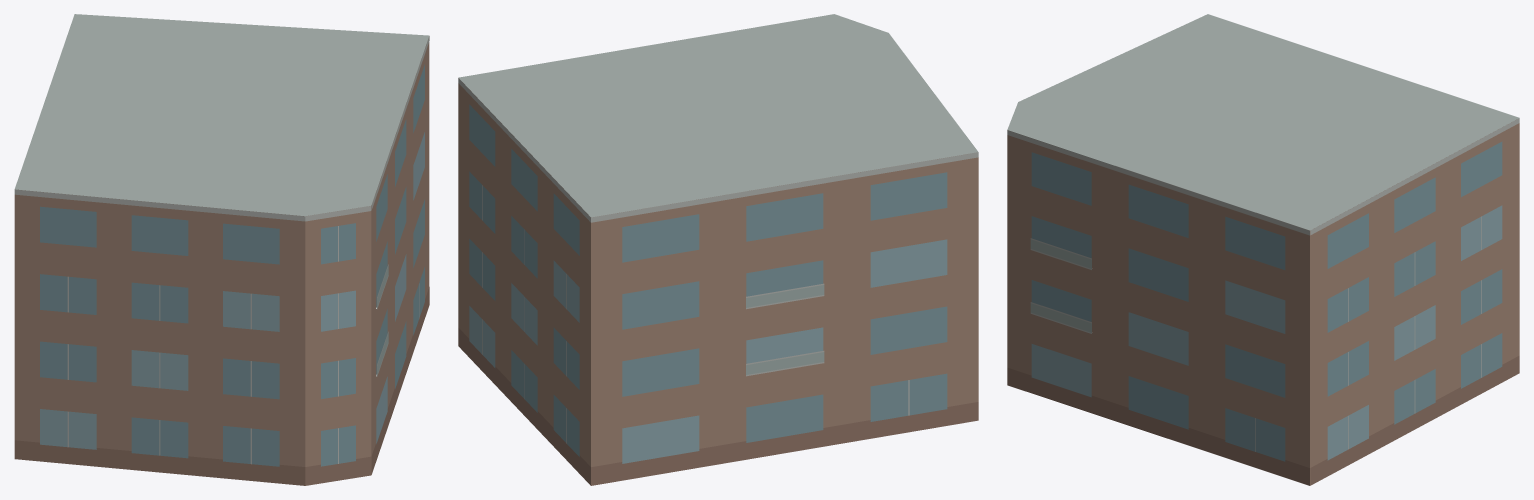
The model's file is survey-upis-32839424.glb.
3 renders of one model, left to right at view 1: azimuth 30°, elevation 25°; view 2: azimuth 150°, elevation 25°; view 3: azimuth 270°, elevation 25°, orthographic. The views are drawn at different scales.
Parts seen in each view (by area): view 1: survey-upis-32839424.tmp; view 2: survey-upis-32839424.tmp; view 3: survey-upis-32839424.tmp.
Boxes of the visible parts, x1,y1,x2,y2 form: survey-upis-32839424.tmp: [14, 14, 429, 485]; survey-upis-32839424.tmp: [458, 14, 978, 485]; survey-upis-32839424.tmp: [1007, 14, 1519, 485].
Bounding box in the file's own units: 22.75 × 12.5 × 22.75.
